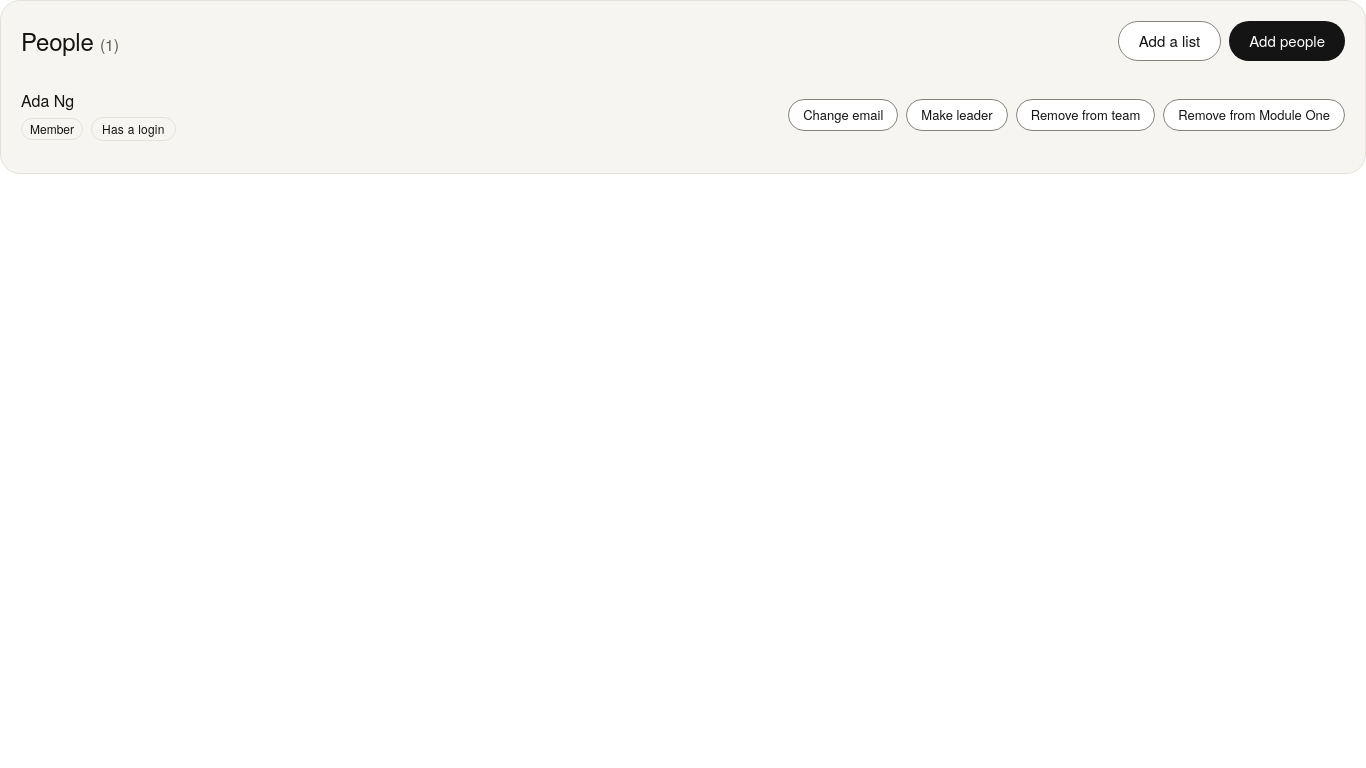
PeopleSection: Remove from Module One › says what removing did (kept with what they recorded)
Click the button "Remove from Module One" at (1254,115), box [1163,99,1345,131]
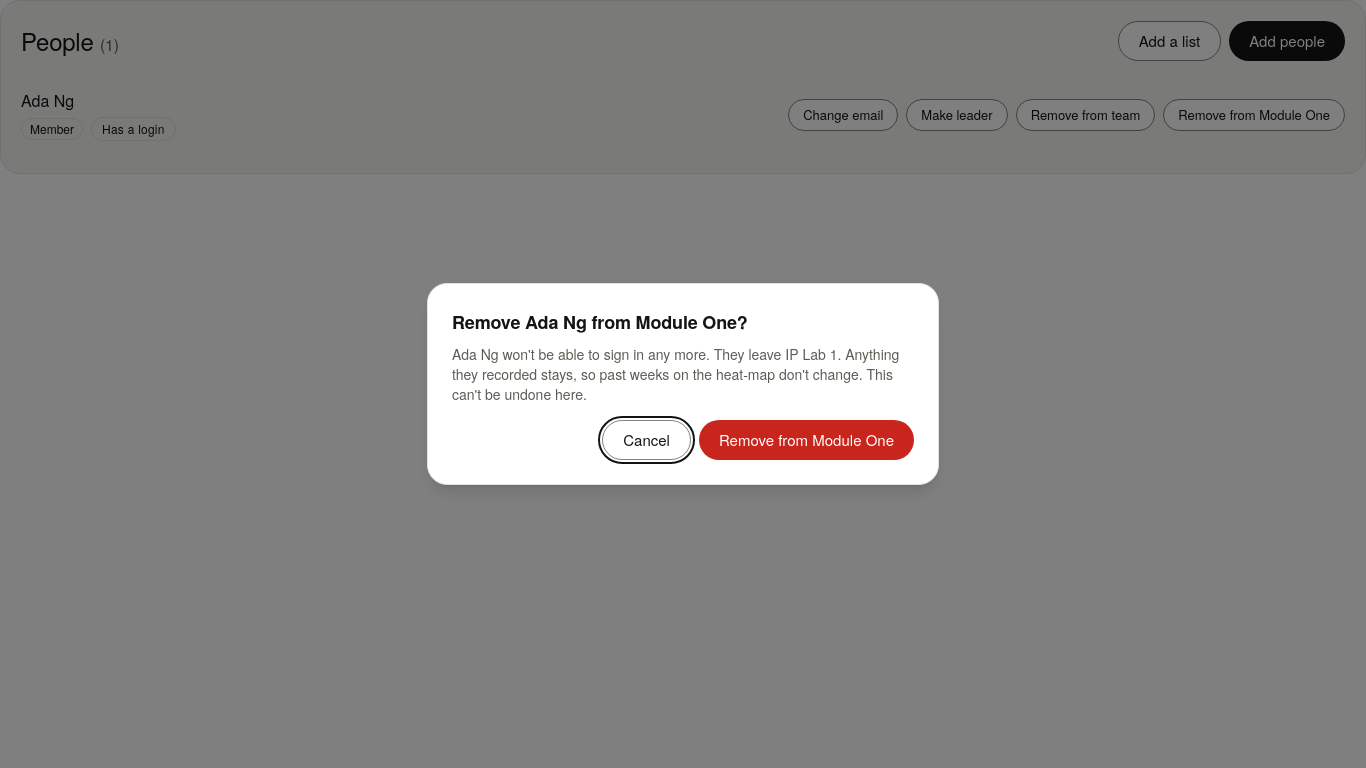
Click the button "Remove from Module One" at (806,440), box [699,420,914,460]
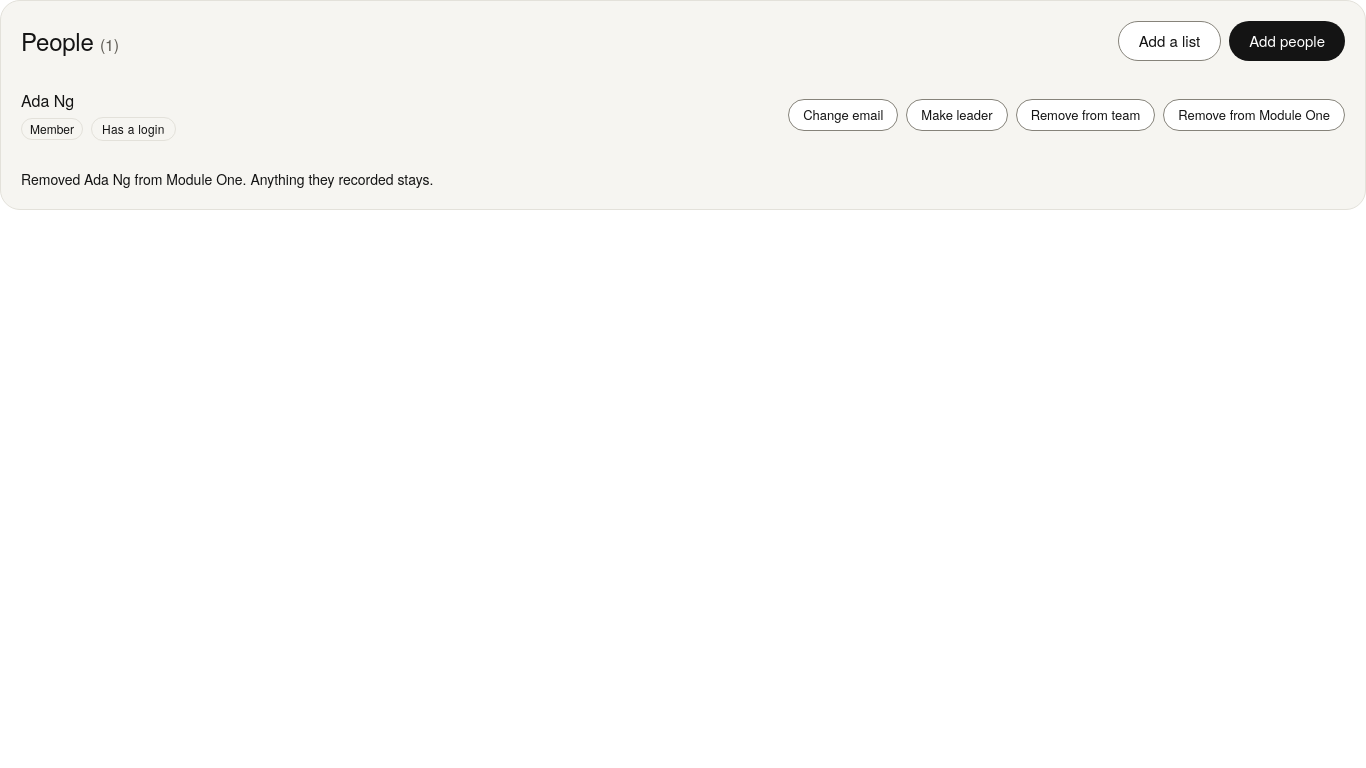
Now the message "Removed Ada Ng from Module One. Anything they recorded stays." is shown, box [21,169,433,189]
